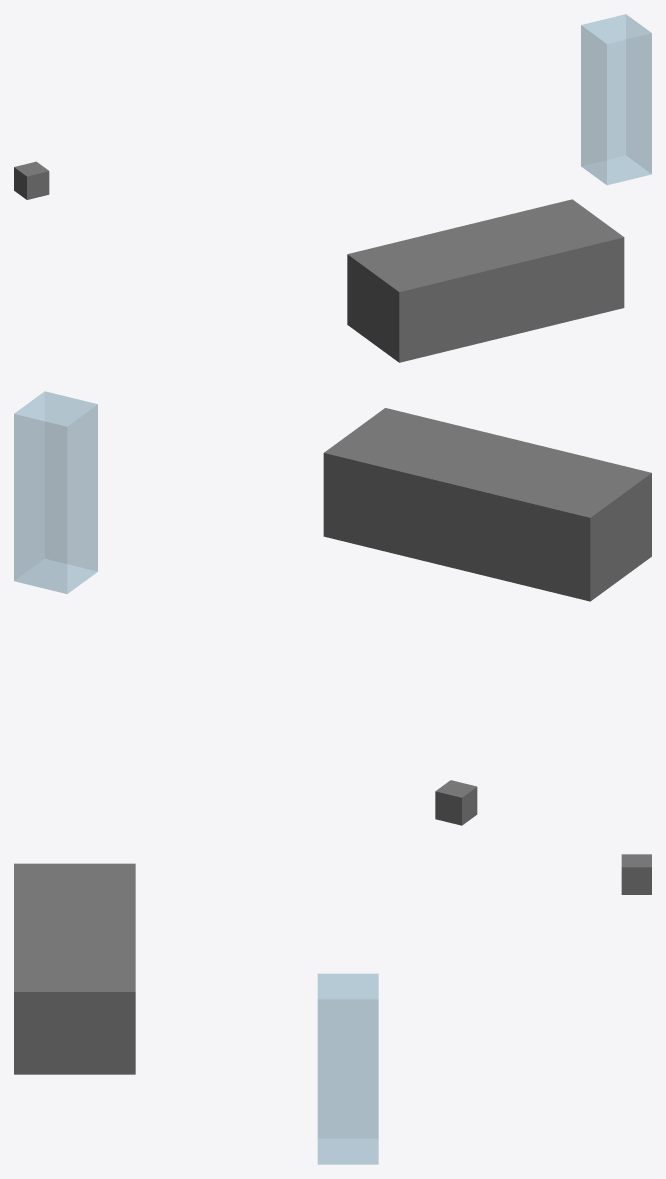
Rendered from archicad-cameras.glb.
The picture shows the model from 3 angles, top to bottom: view 1: azimuth 30°, elevation 25°; view 2: azimuth 150°, elevation 25°; view 3: azimuth 270°, elevation 25°; orthographic projection. The views are drawn at different scales.
Visible parts, largest first — view 1: 0F0A1B2C-0000-4000-8000-00000000000A, 0F0A1B2C-0000-4000-8000-00000000000B, 0F0A1B2C-0000-4000-8000-00000000000C; view 2: 0F0A1B2C-0000-4000-8000-00000000000A, 0F0A1B2C-0000-4000-8000-00000000000B, 0F0A1B2C-0000-4000-8000-00000000000C; view 3: 0F0A1B2C-0000-4000-8000-00000000000A, 0F0A1B2C-0000-4000-8000-00000000000B, 0F0A1B2C-0000-4000-8000-00000000000C.
Boxes of the visible parts, x1,y1,x2,y2 form: 0F0A1B2C-0000-4000-8000-00000000000A: (347,199,624,362); 0F0A1B2C-0000-4000-8000-00000000000B: (581,14,651,185); 0F0A1B2C-0000-4000-8000-00000000000C: (14,161,49,199); 0F0A1B2C-0000-4000-8000-00000000000A: (323,408,651,601); 0F0A1B2C-0000-4000-8000-00000000000B: (14,391,97,593); 0F0A1B2C-0000-4000-8000-00000000000C: (435,780,477,825); 0F0A1B2C-0000-4000-8000-00000000000A: (14,863,135,1074); 0F0A1B2C-0000-4000-8000-00000000000B: (317,973,378,1164); 0F0A1B2C-0000-4000-8000-00000000000C: (621,854,651,894).
Bounding box in the file's own units: 22 × 6 × 21.
